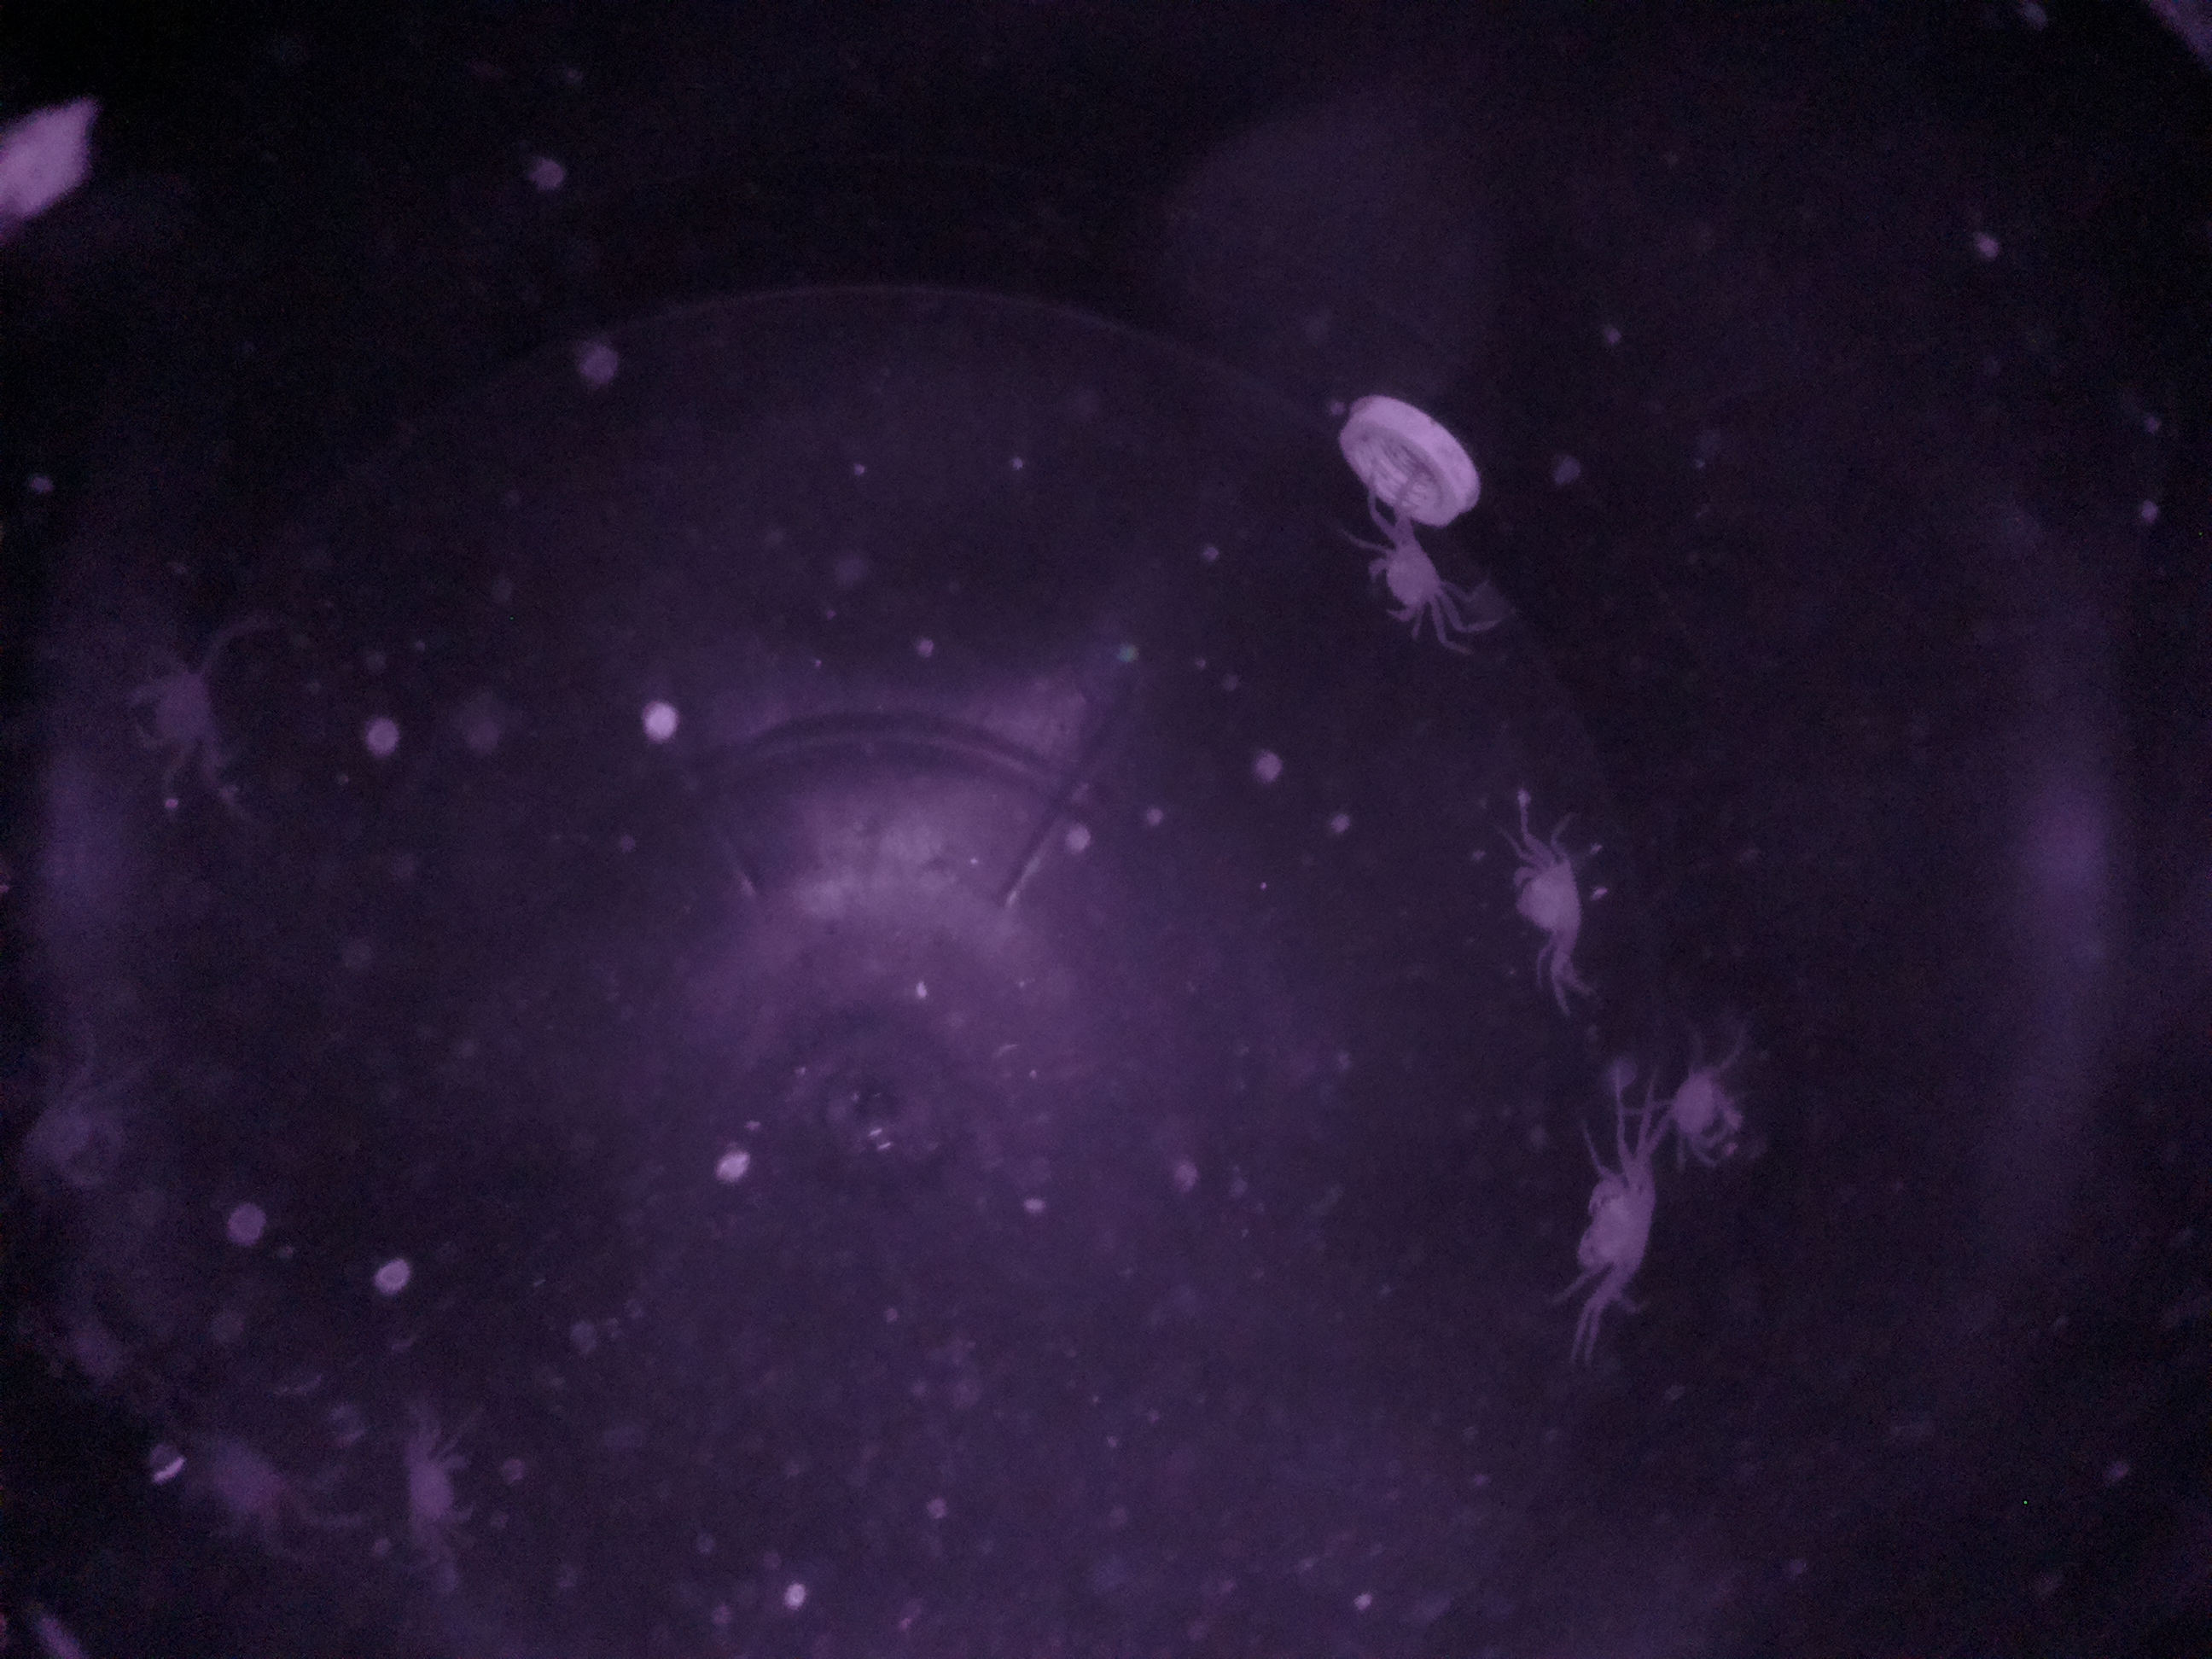Crab: (1550, 1140, 1676, 1305), (1491, 831, 1613, 976), (1360, 518, 1463, 647)
